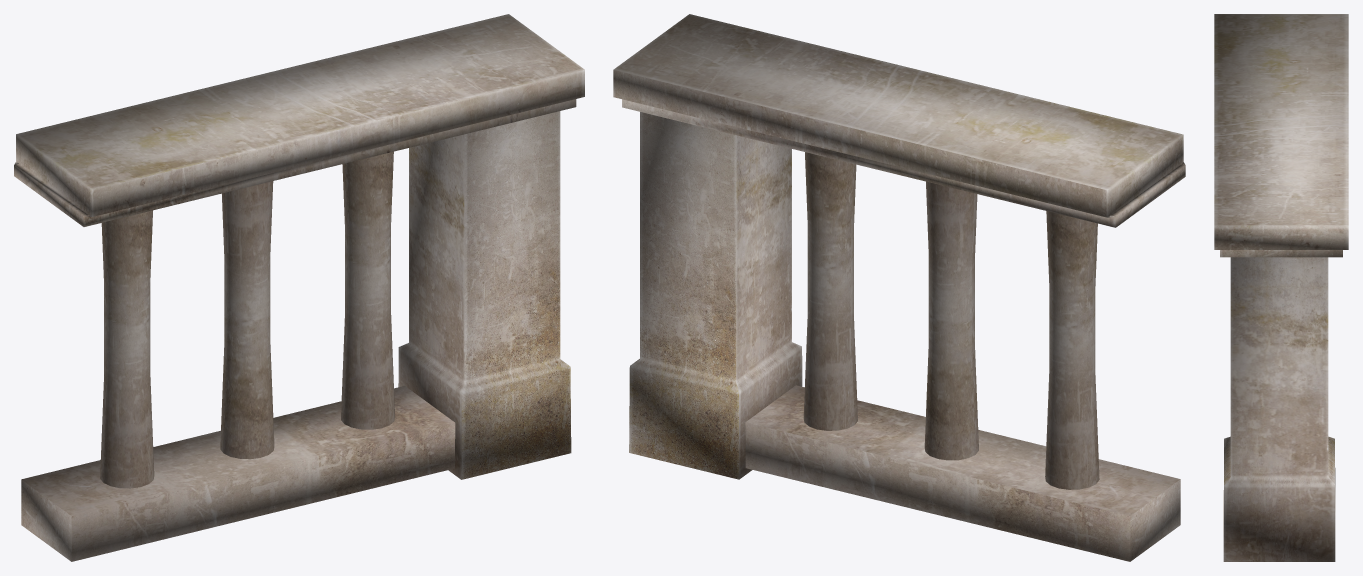
The model's file is balustrade2.fbx.
The picture shows the model from 3 angles, left to right: view 1: azimuth 30°, elevation 25°; view 2: azimuth 150°, elevation 25°; view 3: azimuth 270°, elevation 25°; orthographic projection. The views are drawn at different scales.
Visible parts, largest first — view 1: balustrade; view 2: balustrade; view 3: balustrade.
Boxes of the visible parts, x1,y1,x2,y2 form: balustrade: (14,14,584,561); balustrade: (613,14,1185,561); balustrade: (1214,14,1348,561).
Size of the model in its own units: 7.97 by 5.85 by 2.09.
